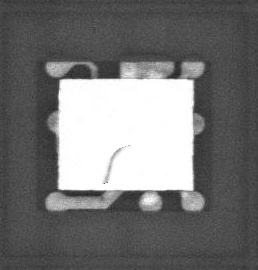DIE_INK: (97, 152, 124, 192)
